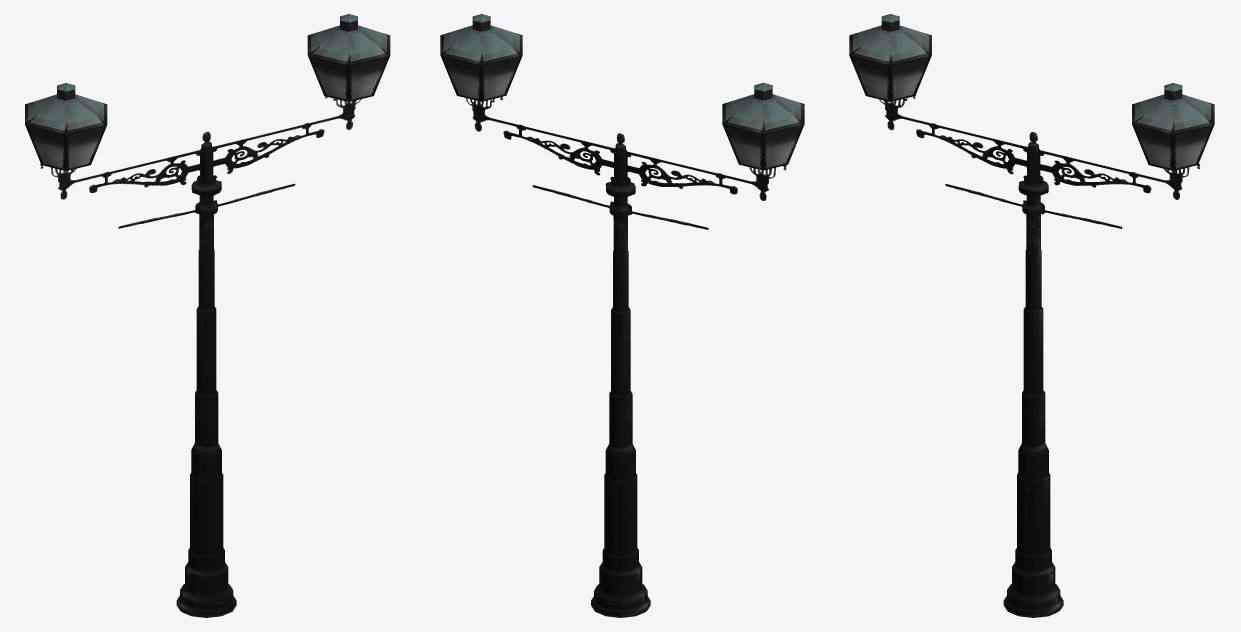
File: lamp.fbx
The picture shows the model from 3 angles, left to right: view 1: azimuth 30°, elevation 25°; view 2: azimuth 150°, elevation 25°; view 3: azimuth 330°, elevation 25°; orthographic projection.
Visible parts, largest first — view 1: instance_161.003, instance_161.004, instance_147.007, instance_135.007, instance_135.006, instance_147.006, instance_140.007, instance_139.007, instance_139.006, instance_140.006; view 2: instance_161.003, instance_161.004, instance_145.006, instance_145.007, instance_144.007, instance_144.006, instance_141.006, instance_141.007, instance_137.007, instance_137.006, instance_161.002; view 3: instance_161.003, instance_161.004, instance_135.006, instance_142.007, instance_135.007, instance_142.006, instance_139.006, instance_138.007, instance_139.007, instance_138.006.
Boxes of the visible parts, bbox=[...] form: instance_161.003: bbox=[176, 195, 236, 617]; instance_161.004: bbox=[40, 96, 361, 228]; instance_147.007: bbox=[25, 124, 66, 170]; instance_135.007: bbox=[66, 124, 106, 170]; instance_135.006: bbox=[349, 55, 389, 101]; instance_147.006: bbox=[308, 55, 348, 101]; instance_140.007: bbox=[25, 98, 66, 134]; instance_139.007: bbox=[66, 99, 106, 134]; instance_139.006: bbox=[349, 30, 389, 65]; instance_140.006: bbox=[308, 30, 348, 65]; instance_161.003: bbox=[591, 196, 650, 617]; instance_161.004: bbox=[466, 96, 786, 229]; instance_145.006: bbox=[481, 55, 522, 101]; instance_145.007: bbox=[763, 124, 804, 170]; instance_144.007: bbox=[722, 124, 763, 170]; instance_144.006: bbox=[440, 55, 481, 101]; instance_141.006: bbox=[481, 29, 522, 65]; instance_141.007: bbox=[763, 98, 804, 133]; instance_137.007: bbox=[722, 98, 763, 133]; instance_137.006: bbox=[440, 29, 481, 65]; instance_161.002: bbox=[614, 134, 626, 182]; instance_161.003: bbox=[1003, 195, 1063, 617]; instance_161.004: bbox=[879, 95, 1199, 228]; instance_135.006: bbox=[1132, 124, 1173, 170]; instance_142.007: bbox=[890, 55, 931, 101]; instance_135.007: bbox=[849, 55, 890, 101]; instance_142.006: bbox=[1173, 124, 1214, 170]; instance_139.006: bbox=[1132, 98, 1173, 134]; instance_138.007: bbox=[890, 30, 931, 65]; instance_139.007: bbox=[849, 29, 890, 65]; instance_138.006: bbox=[1173, 98, 1214, 134].
Size of the model in its own units: 383 by 529 by 71.01.
